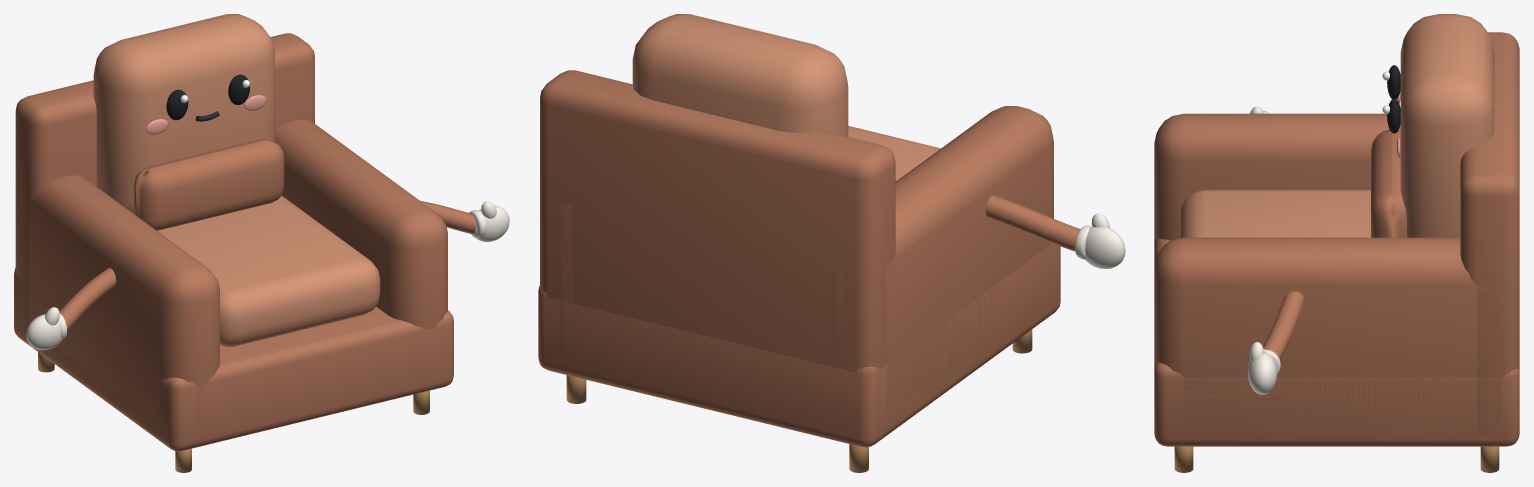
File: armchair-standard.glb
The picture shows the model from 3 angles, left to right: view 1: azimuth 30°, elevation 25°; view 2: azimuth 150°, elevation 25°; view 3: azimuth 270°, elevation 25°; orthographic projection. The views are drawn at different scales.
Parts seen in each view (by area): view 1: Upholstery.003, Arm_L.003, Arm_R.003, Legs.003; view 2: Upholstery.003, Arm_L.003, Legs.003; view 3: Upholstery.003, Arm_R.003, Legs.003, Face_EyeR.003, Face_EyeL.003.
Part boxes in pixels (left/top/right/bottom): Upholstery.003: left=14, top=14, right=453, bottom=451; Arm_L.003: left=26, top=267, right=116, bottom=350; Arm_R.003: left=421, top=201, right=509, bottom=241; Legs.003: left=38, top=352, right=429, bottom=472; Upholstery.003: left=538, top=14, right=1060, bottom=447; Arm_L.003: left=985, top=195, right=1125, bottom=268; Legs.003: left=566, top=329, right=1032, bottom=472; Upholstery.003: left=1154, top=14, right=1519, bottom=446; Arm_R.003: left=1248, top=291, right=1304, bottom=394; Legs.003: left=1174, top=446, right=1499, bottom=472; Face_EyeR.003: left=1387, top=98, right=1400, bottom=133; Face_EyeL.003: left=1387, top=65, right=1400, bottom=99.
Bounding box in the file's own units: 1.46 × 0.93 × 0.86.
